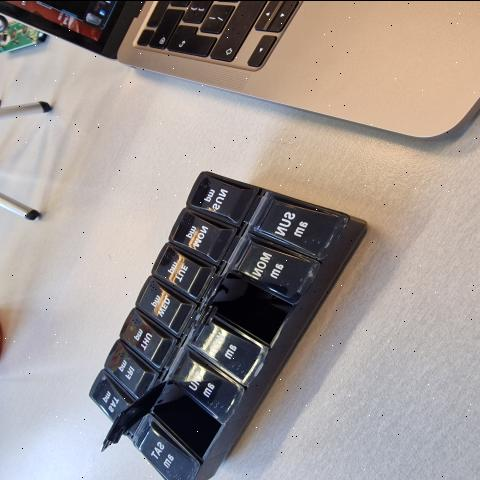Open: (98, 380, 225, 459), (196, 272, 294, 345)
